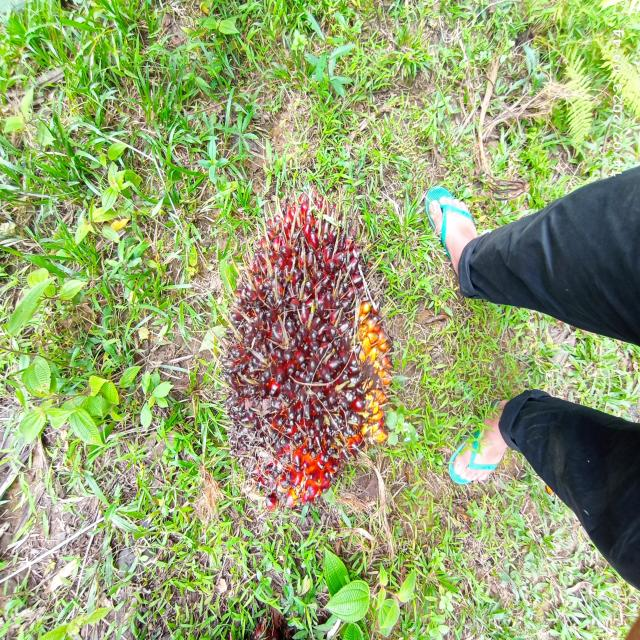fraksi 3: (208, 182, 392, 534)
